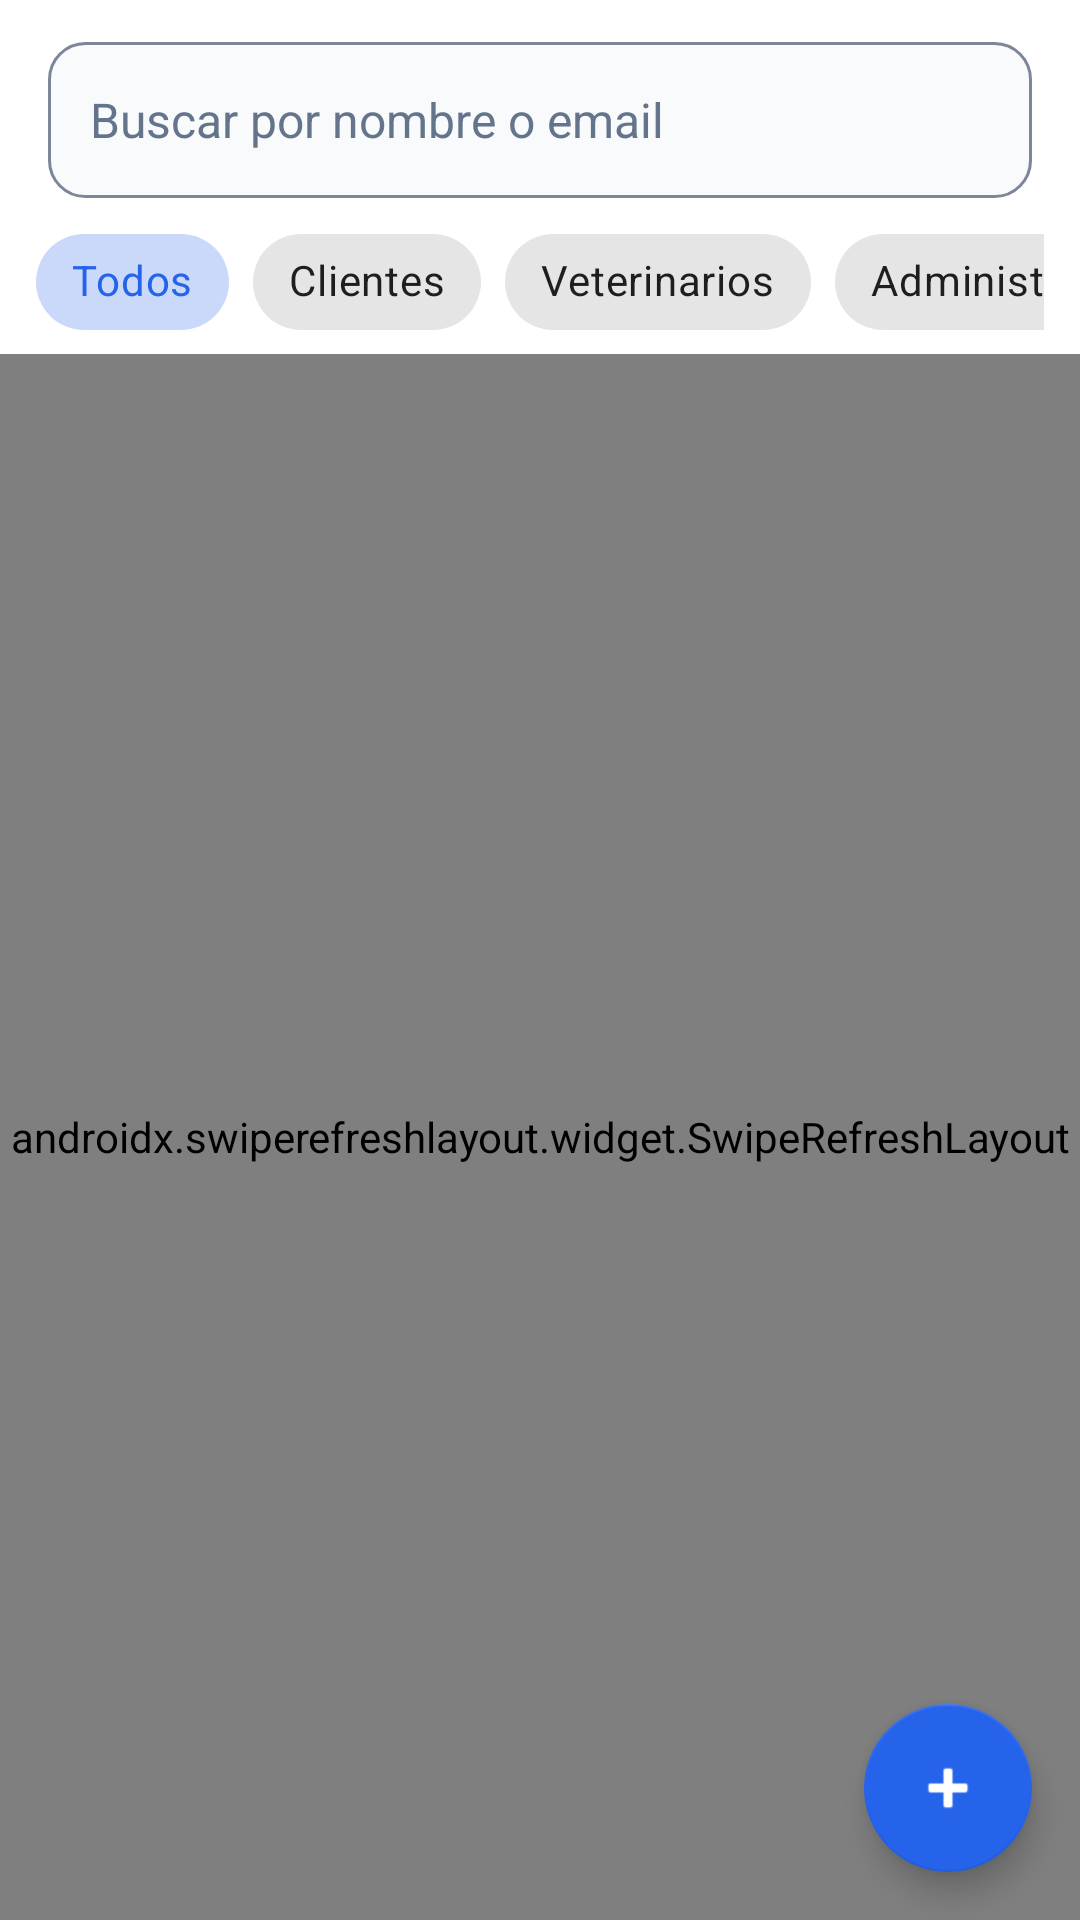

Screen size 1080w x 1920h. Icon name, then its center in pixels as [x,y]:
Nuevo usuario: [948,1788]
